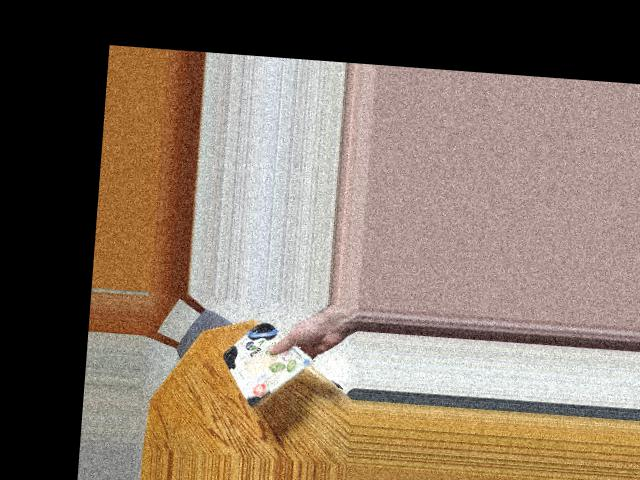cheese: (222, 331, 306, 398)
